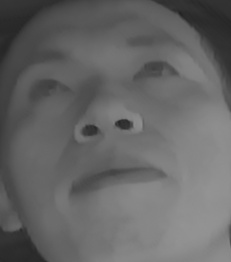eye: (128, 50, 182, 92), (25, 70, 75, 108)
mouth: (64, 151, 171, 206)
